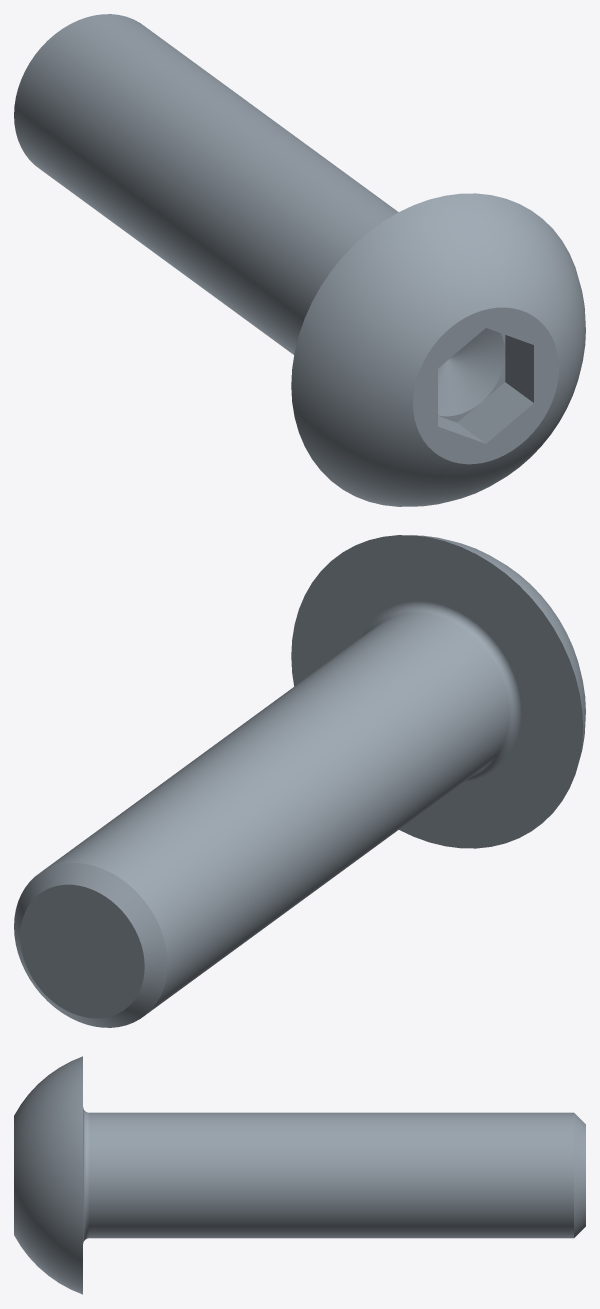
The model's file is Socket_button_head_screw_M4x0_7_x_16.obj.
3 renders of one model, top to bottom at view 1: azimuth 30°, elevation 25°; view 2: azimuth 150°, elevation 25°; view 3: azimuth 270°, elevation 25°, orthographic. The views are drawn at different scales.
Visible parts, largest first — view 1: mesh3408, mesh3411, mesh3412, mesh3420, mesh3417, mesh3418; view 2: mesh3408, mesh3410, mesh3406, mesh3407, mesh3409, mesh3411; view 3: mesh3408, mesh3411, mesh3407, mesh3409.
Boxes of the visible parts, box(x1,y1,x2,y2) form: mesh3408: box(14, 14, 398, 354); mesh3411: box(291, 193, 585, 506); mesh3412: box(413, 307, 558, 464); mesh3420: box(438, 328, 505, 416); mesh3417: box(457, 382, 533, 443); mesh3418: box(505, 335, 533, 402); mesh3408: box(43, 612, 509, 1013); mesh3410: box(291, 535, 583, 848); mesh3406: box(20, 884, 144, 1018); mesh3407: box(14, 863, 167, 1027); mesh3409: box(359, 601, 521, 781); mesh3411: box(415, 535, 585, 757); mesh3408: box(89, 1112, 573, 1238); mesh3411: box(14, 1056, 82, 1294); mesh3407: box(574, 1113, 585, 1237); mesh3409: box(83, 1107, 89, 1243).
Size of the model in its own units: 0.0076 by 0.00759 by 0.0182.
